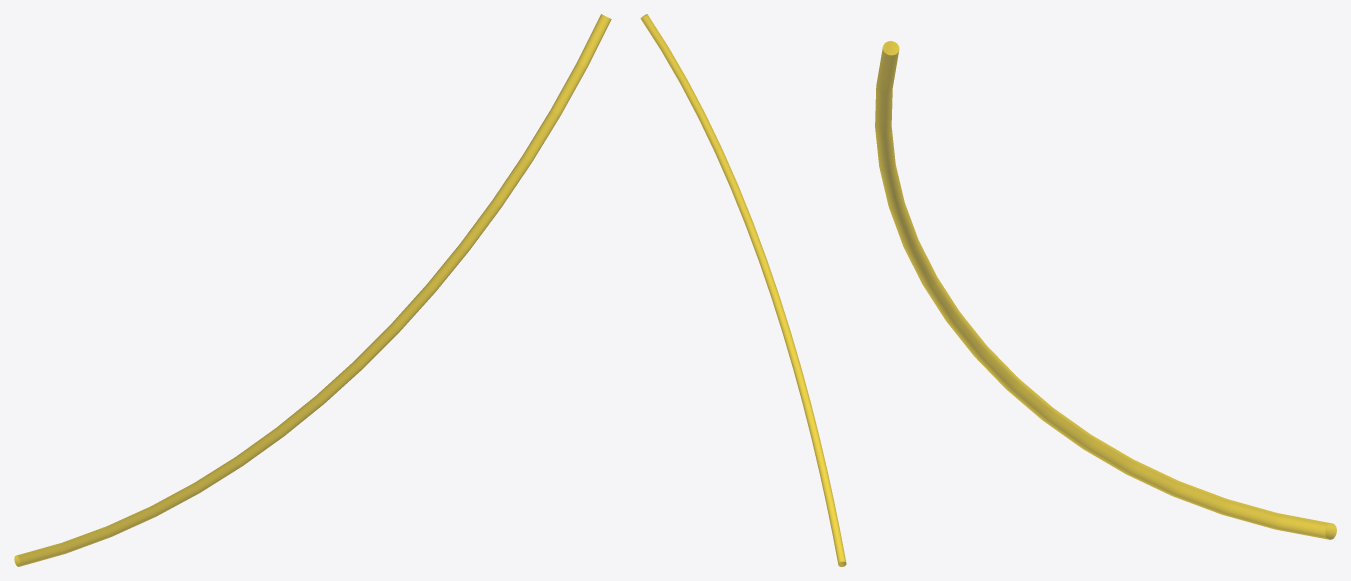
The model's file is Event_15818458_track_40.fbx.
3 renders of one model, left to right at view 1: azimuth 30°, elevation 25°; view 2: azimuth 150°, elevation 25°; view 3: azimuth 270°, elevation 25°, orthographic. The views are drawn at different scales.
Parts seen in each view (by area): view 1: Model; view 2: Model; view 3: Model.
Part boxes in pixels (x1,y1,x2,y2): Model: (14,14,611,566); Model: (640,14,846,566); Model: (875,41,1336,539).
Size of the model in its own units: 1.74 by 2.1 by 1.11.
